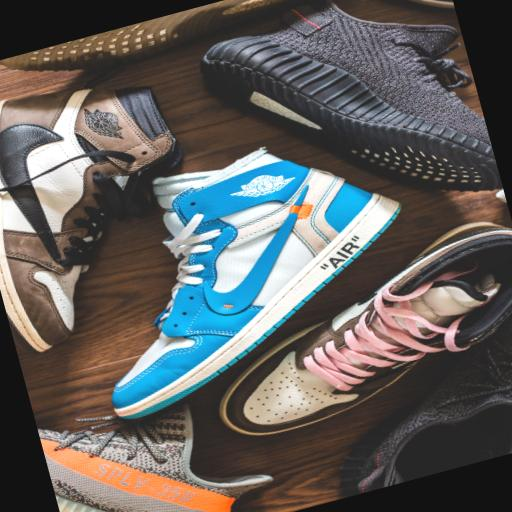shoe: (113, 149, 400, 418), (220, 222, 511, 435), (201, 0, 502, 191), (0, 86, 176, 352), (341, 318, 511, 496), (38, 406, 272, 511), (0, 0, 288, 71), (410, 0, 454, 7), (496, 190, 506, 202)
